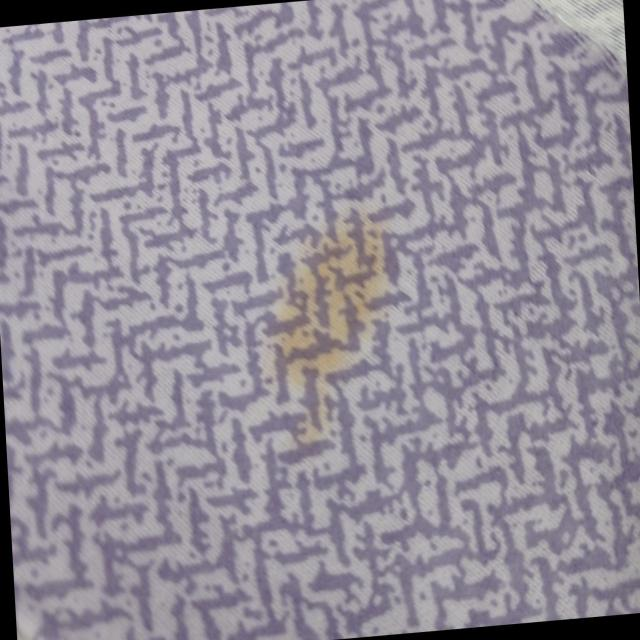stain: (252, 193, 417, 460)
